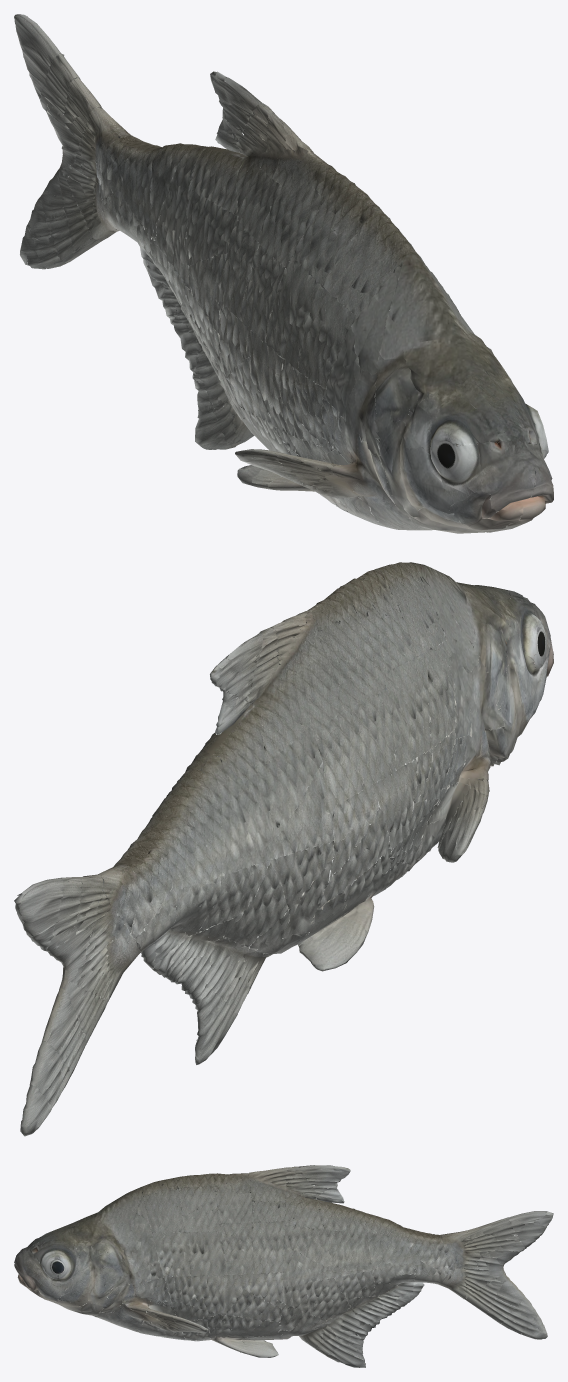
Rendered from sapa.glb.
The picture shows the model from 3 angles, top to bottom: view 1: azimuth 30°, elevation 25°; view 2: azimuth 150°, elevation 25°; view 3: azimuth 270°, elevation 25°; orthographic projection. The views are drawn at different scales.
Parts seen in each view (by area): view 1: Mesh_0; view 2: Mesh_0; view 3: Mesh_0.
Boxes of the visible parts, x1=… form: Mesh_0: x1=14, y1=14, x2=553, y2=533; Mesh_0: x1=14, y1=562, x2=553, y2=1136; Mesh_0: x1=14, y1=1165, x2=553, y2=1367.
Size of the model in its own units: 0.4893 by 0.7888 by 1.91.
Materials: 1 (1 with a texture image).
